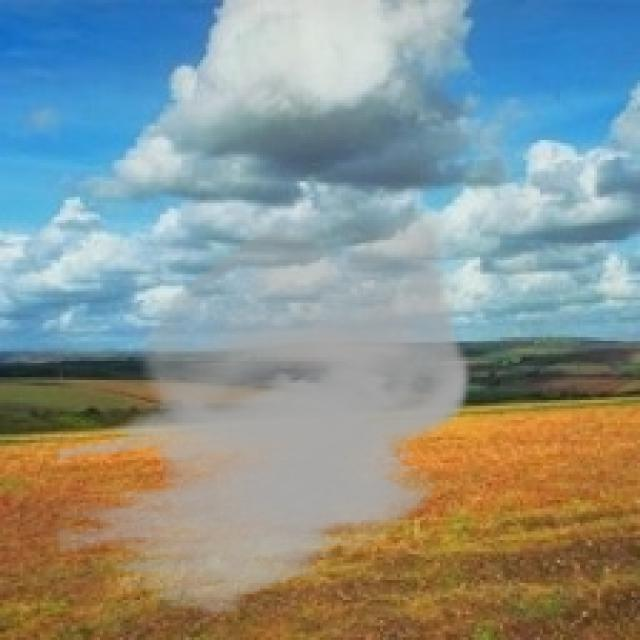smoke: (54, 209, 472, 620)
